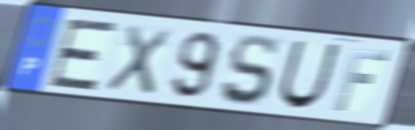9: (169, 30, 222, 101)
E: (45, 17, 121, 93)
F: (331, 45, 393, 113)
S: (218, 33, 279, 109)
U: (276, 38, 343, 111)
X: (102, 22, 174, 98)
